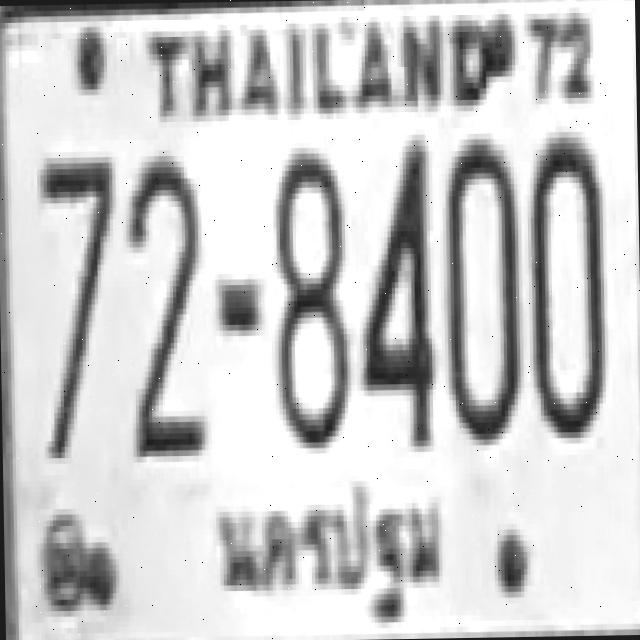0: (526, 131, 603, 432), (441, 136, 518, 437)
2: (125, 152, 202, 453)
4: (356, 136, 433, 444)
7: (36, 151, 116, 458)
8: (271, 146, 348, 442)
NakhonPathom: (202, 471, 456, 640)
